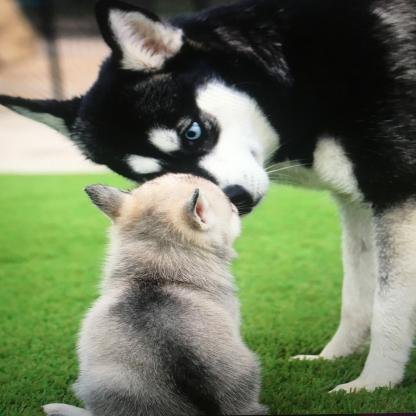dog: (6, 10, 416, 394), (46, 173, 268, 416)
